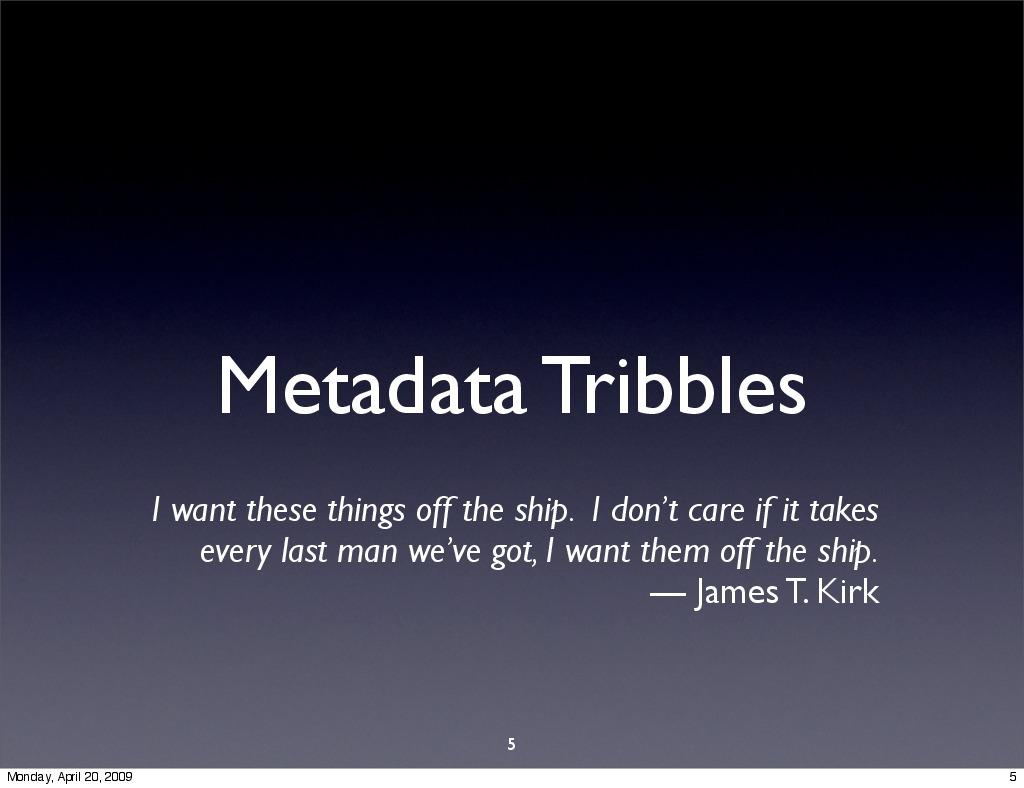subtitle: (137, 480, 908, 621)
title: (201, 312, 823, 445)
